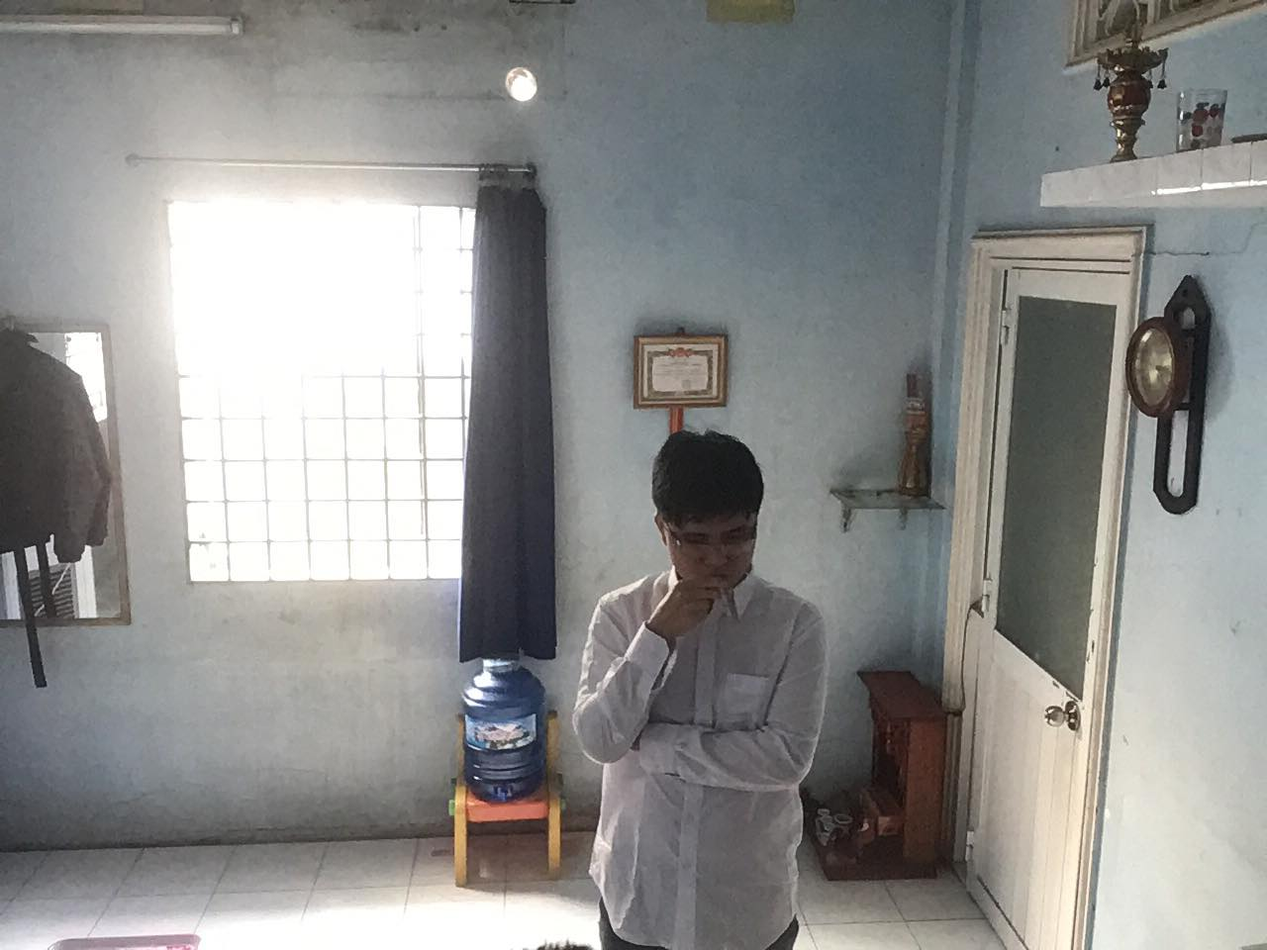cigarette: (716, 581, 737, 627)
person: (562, 415, 843, 950)
